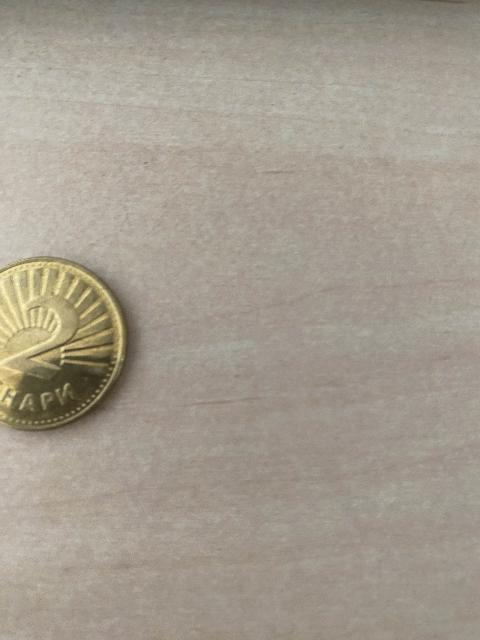2_coin: (0, 258, 126, 429)
